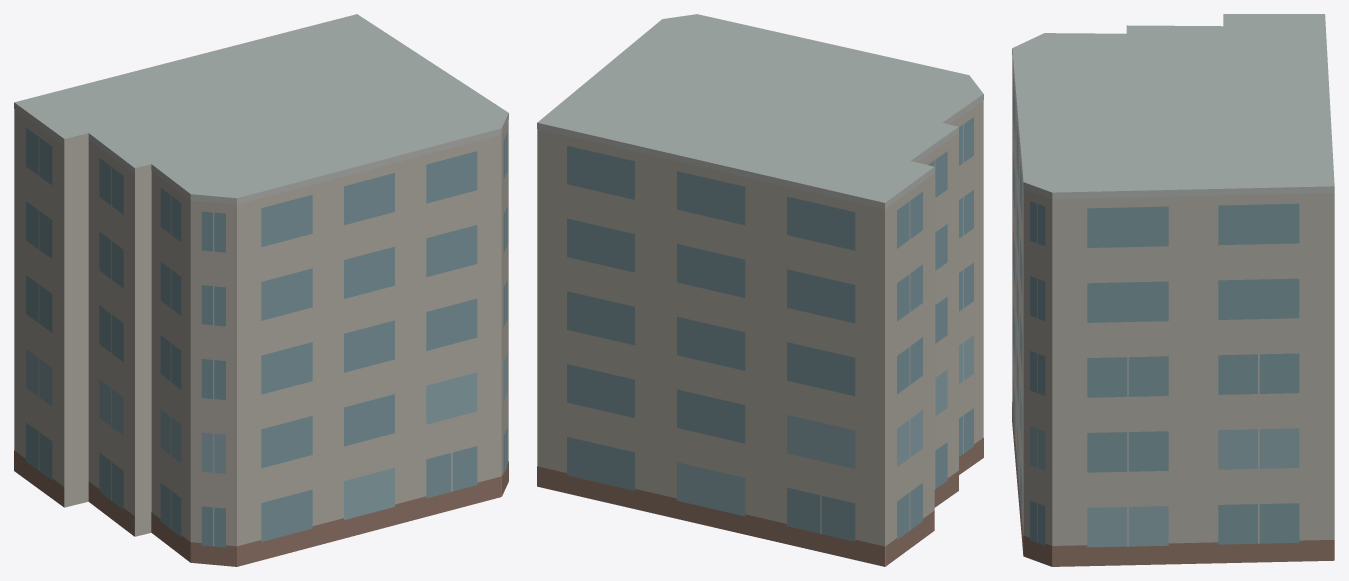
Rendered from survey-upis-32744084.glb.
3 renders of one model, left to right at view 1: azimuth 30°, elevation 25°; view 2: azimuth 150°, elevation 25°; view 3: azimuth 270°, elevation 25°, orthographic. The views are drawn at different scales.
Visible parts, largest first — view 1: survey-upis-32744084.tmp; view 2: survey-upis-32744084.tmp; view 3: survey-upis-32744084.tmp.
Boxes of the visible parts, x1,y1,x2,y2 form: survey-upis-32744084.tmp: (14,14,508,566); survey-upis-32744084.tmp: (537,14,983,566); survey-upis-32744084.tmp: (1012,14,1334,566).
Bounding box in the file's own units: 14.23 × 13.9 × 10.86.
